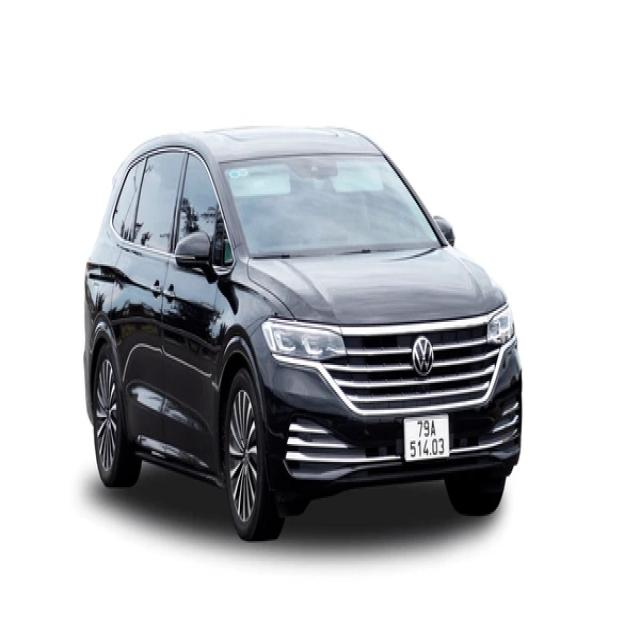wolksvogen: (412, 334, 434, 376)
